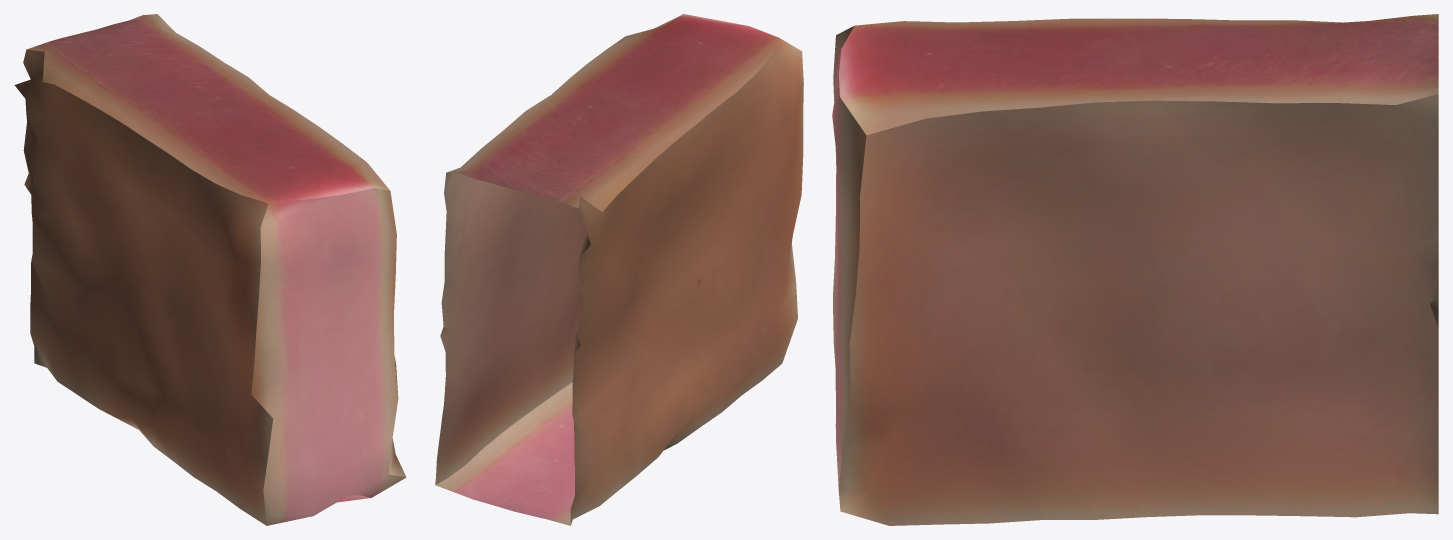
File: skin.obj
3 views of the same model, side by side, from view 1: azimuth 30°, elevation 25°; view 2: azimuth 150°, elevation 25°; view 3: azimuth 270°, elevation 25° (orthographic). The views are drawn at different scales.
Parts seen in each view (by area): view 1: Object; view 2: Object; view 3: Object.
Part boxes in pixels (left/top/right/bottom): Object: left=14, top=14, right=406, bottom=525; Object: left=435, top=14, right=803, bottom=525; Object: left=832, top=14, right=1438, bottom=525.
Size of the model in its own units: 0.0507 by 0.0929 by 0.1183.
1 material, 1 textured.
